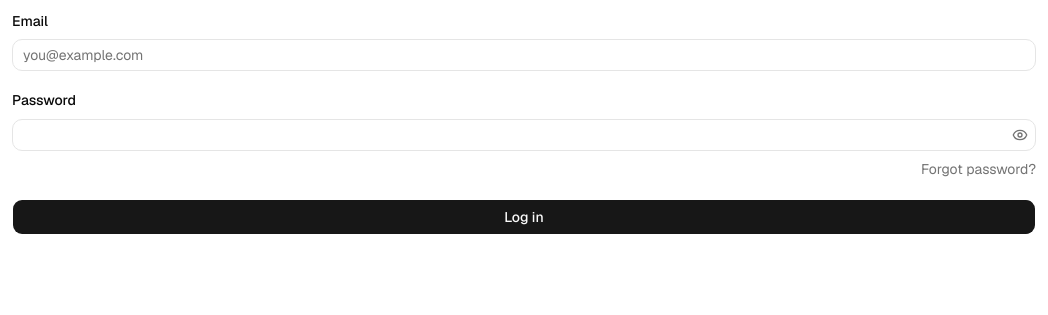
LoginForm › shows the API message on wrong credentials
The width and height of the screenshot is (1048, 315).
Type "ravi@example.test" into the field labelled "Email". click: (524, 55)
box: left=12, top=39, right=1036, bottom=71
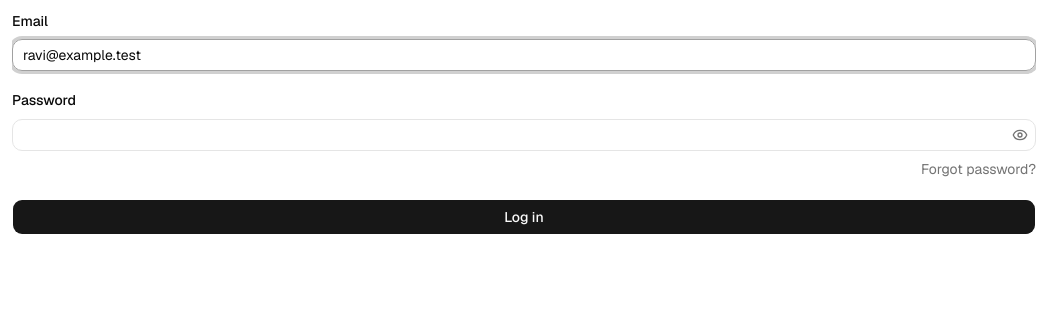
Type "wrong-pass" into the password field labelled "Password". click: (510, 134)
box: left=13, top=118, right=1008, bottom=150
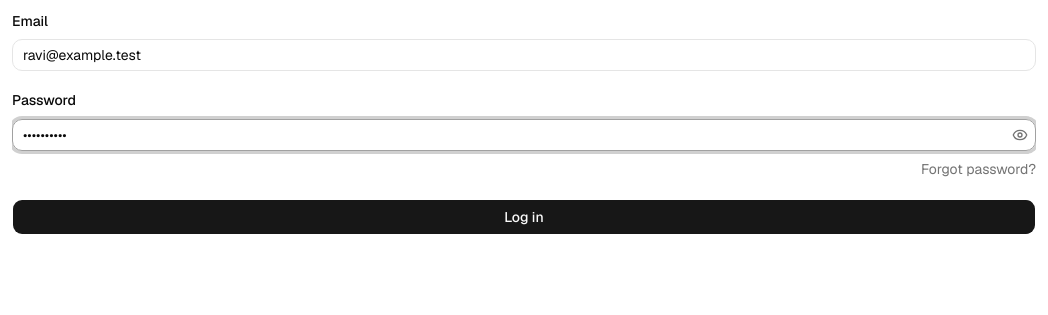
Click the button "Log in". click: (524, 216)
box: left=12, top=198, right=1036, bottom=234
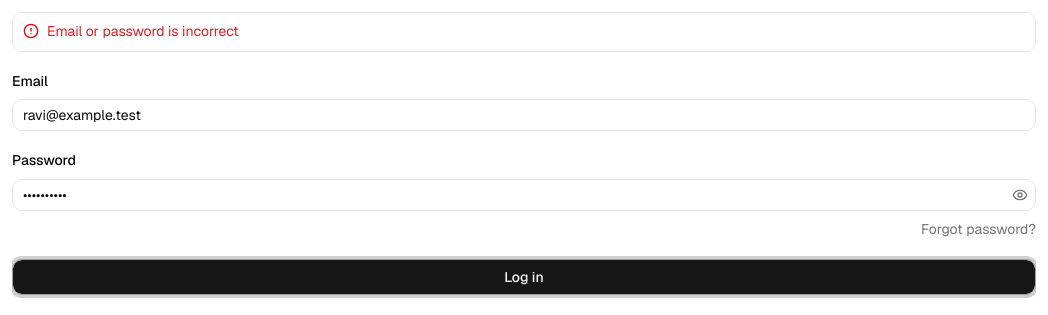
Expected: the message reads "Email or password is incorrect", left=47, top=22, right=239, bottom=40
